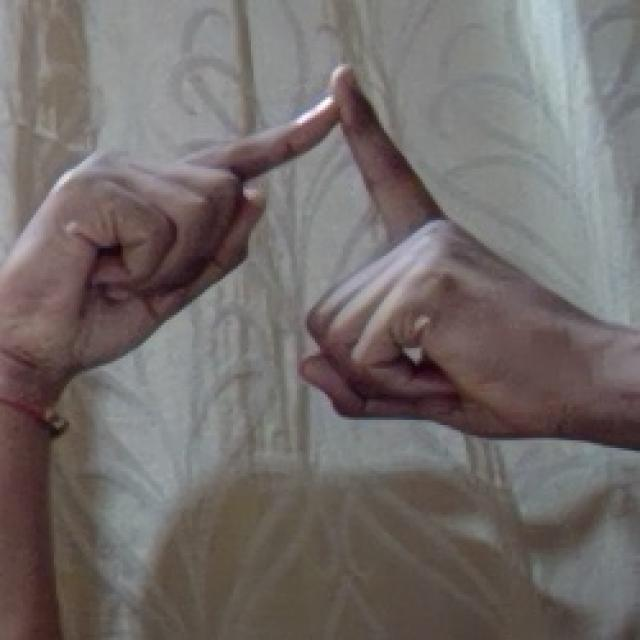Alphabet-E: (0, 67, 640, 640)
